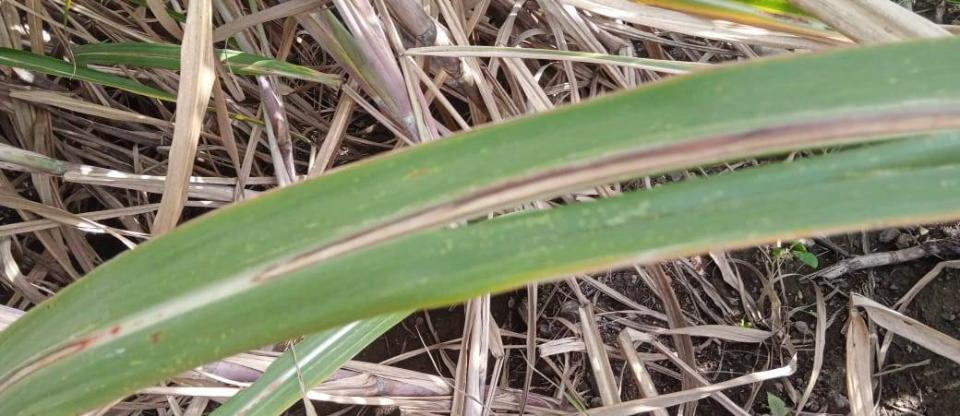RedRot: (250, 110, 959, 287), (0, 324, 121, 394), (146, 330, 163, 345)
